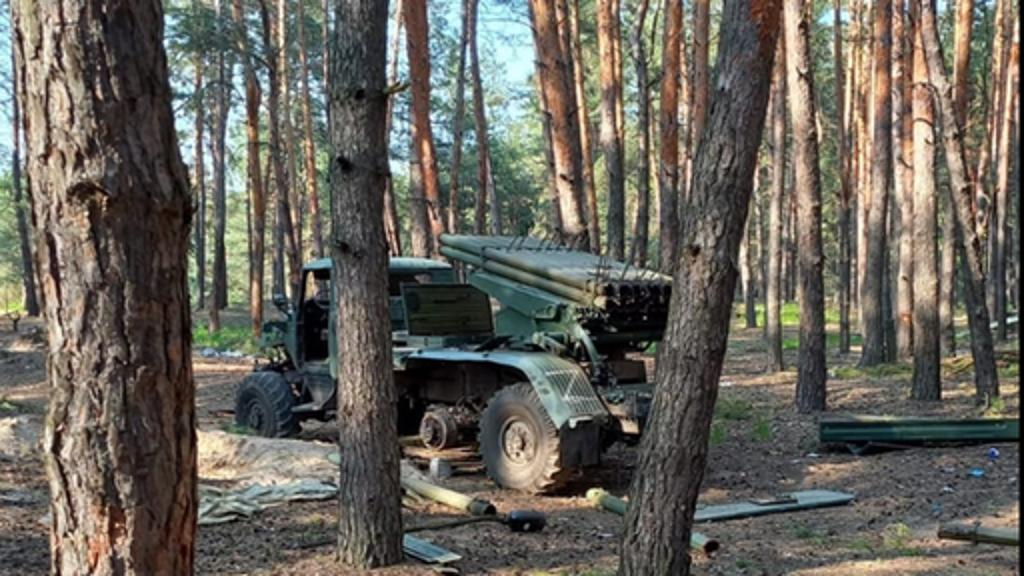MLRS: (230, 228, 692, 494)
